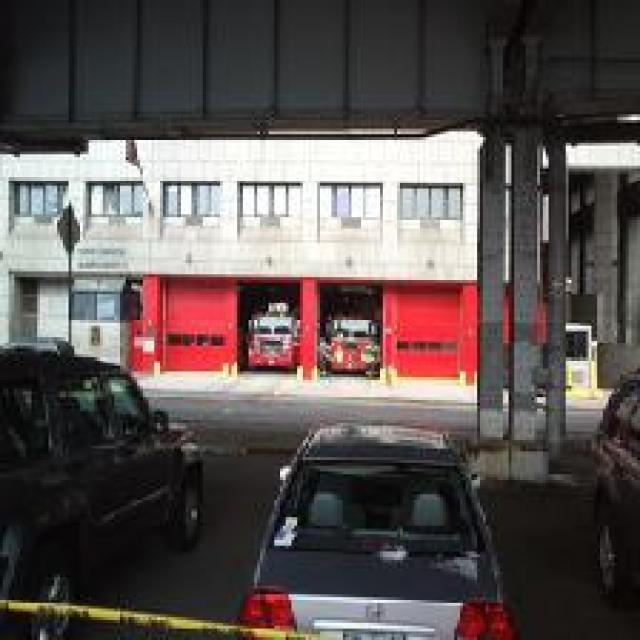emergency: (324, 315, 381, 377), (247, 313, 301, 372)
